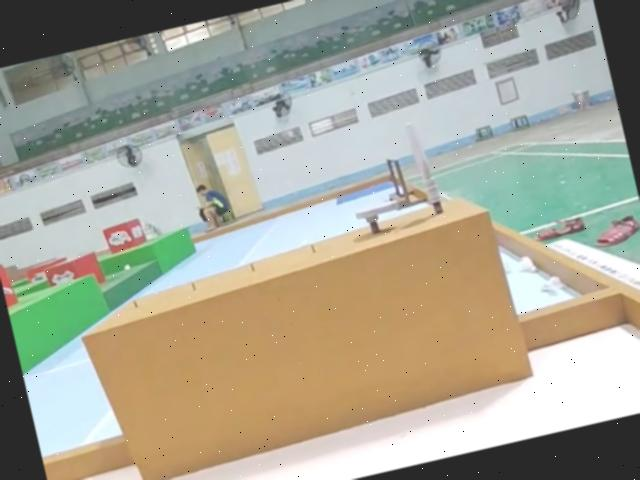Hand: (353, 198, 400, 233)
Sph: (403, 118, 448, 217)
